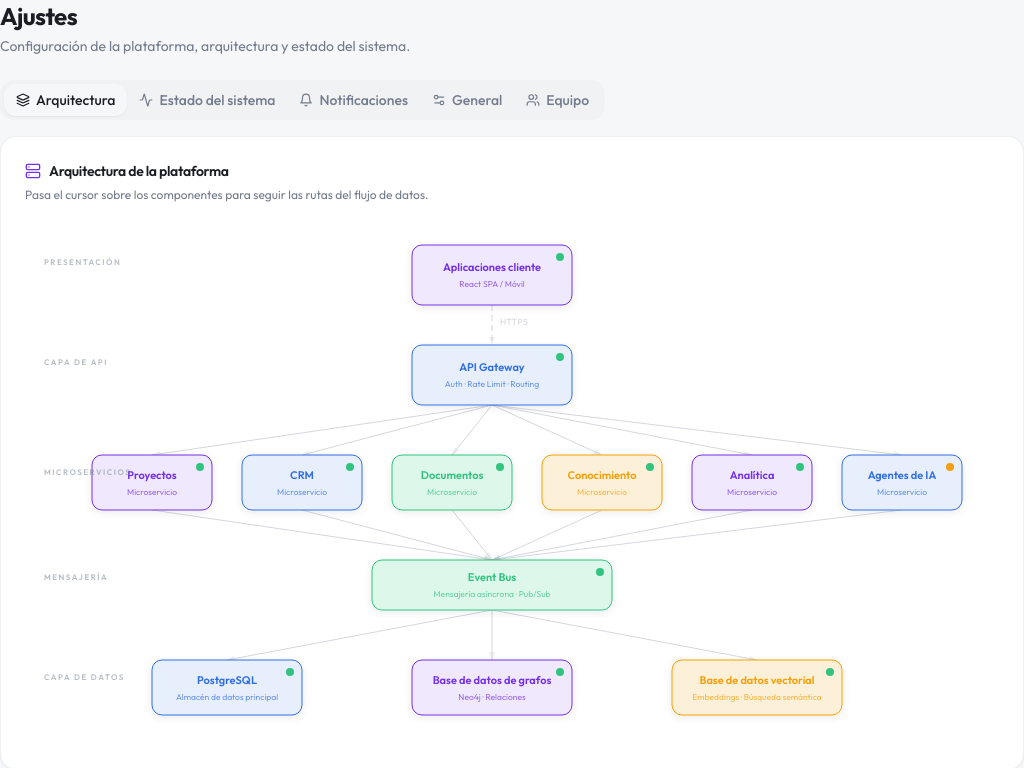
it: Settings, in Spanish › system health › falls back to the raw name of a service the catalogue does not know
The image size is (1024, 768).
Press the mouse on the tab "Estado del sistema" at (207, 100), box [127,84,287,116]
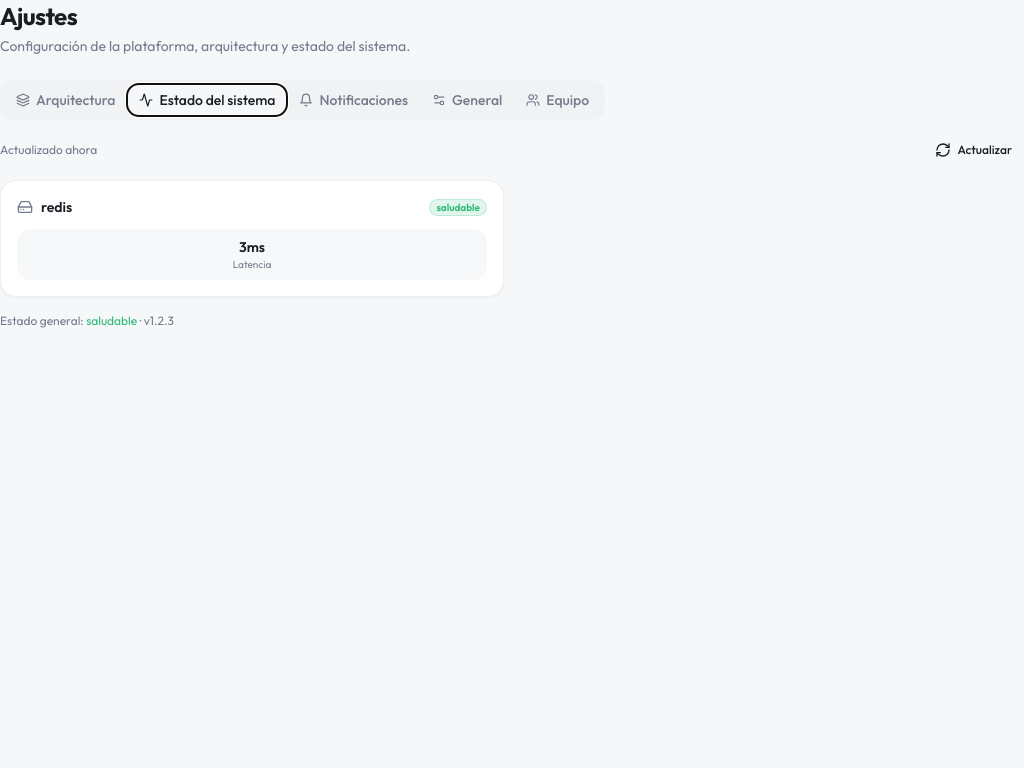
Expected: the text "redis" is shown, [41,197,72,217]
